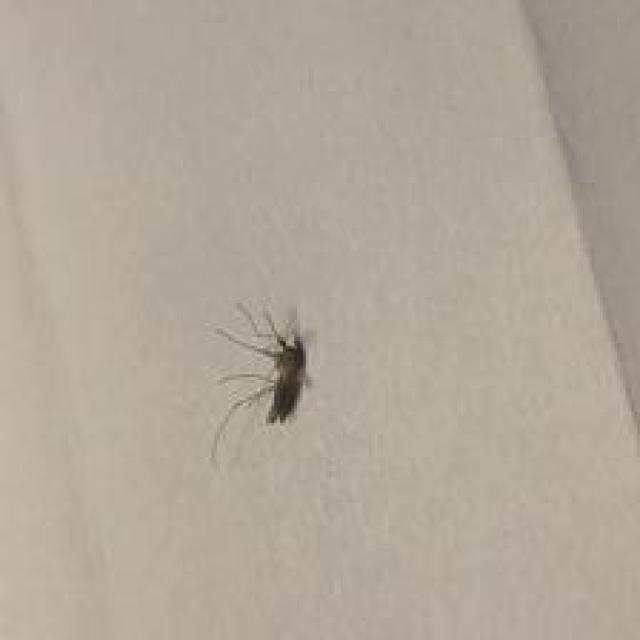Culex: (207, 298, 313, 462)
